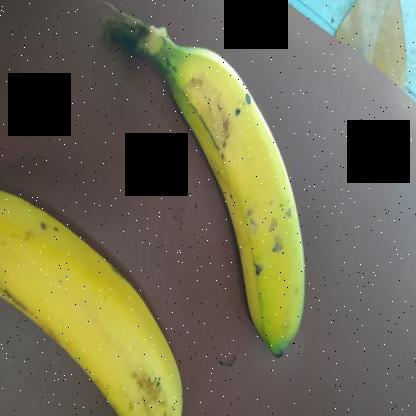freshripe: (0, 168, 203, 415)
ripe: (137, 9, 302, 364)
